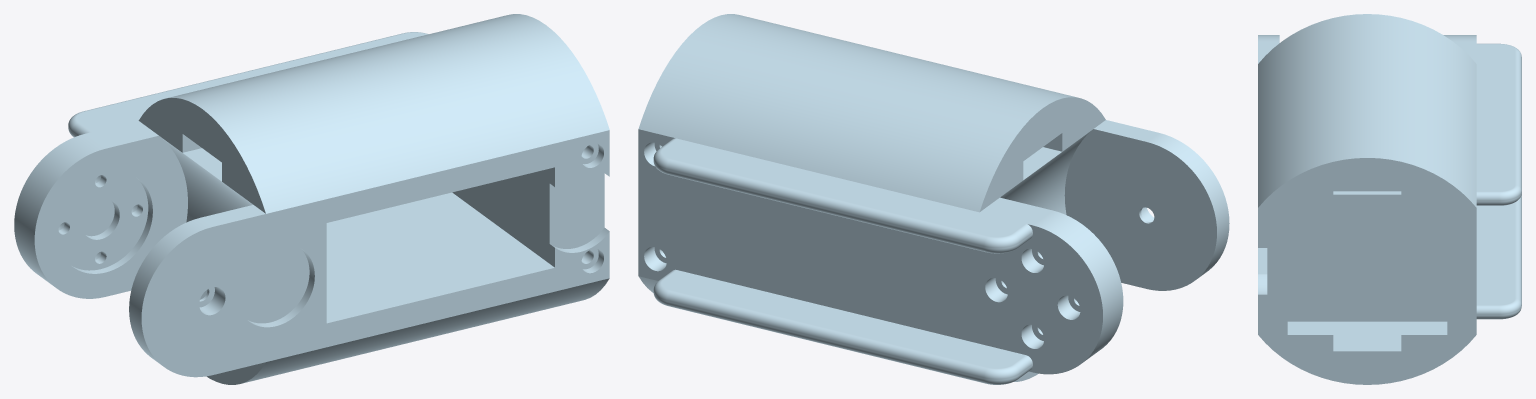
File: _M5xauL3lJW4uSME_V.gltf
The picture shows the model from 3 angles, left to right: view 1: azimuth 30°, elevation 25°; view 2: azimuth 150°, elevation 25°; view 3: azimuth 270°, elevation 25°; orthographic projection. The views are drawn at different scales.
Visible parts, largest first — view 1: SnakeBody; view 2: SnakeBody; view 3: SnakeBody.
Part boxes in pixels (bbox=[...]): SnakeBody: bbox=[14, 14, 609, 384]; SnakeBody: bbox=[638, 14, 1229, 384]; SnakeBody: bbox=[1258, 14, 1521, 384].
Bounding box in the file's own units: 0.1025 × 0.0554 × 0.0583.
